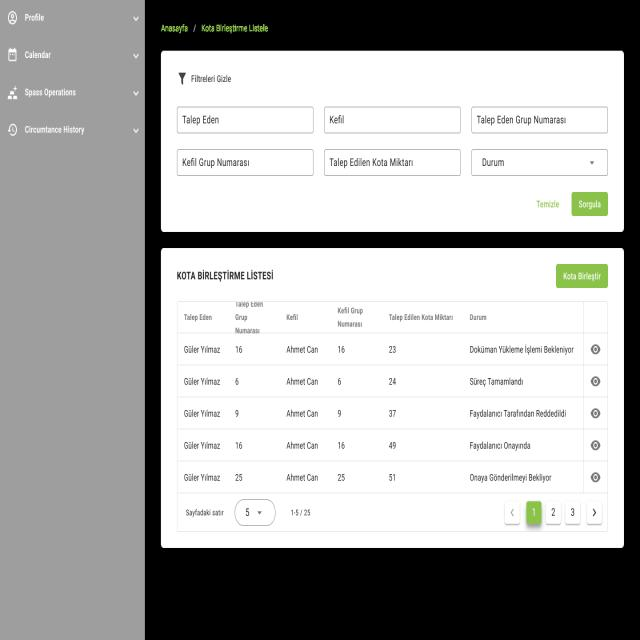QLabel: (174, 266, 275, 282), (190, 70, 232, 87), (560, 269, 604, 283), (576, 199, 604, 211), (537, 197, 560, 211)
QMenu: (0, 0, 145, 640)
VBreadcrumbs: (156, 20, 274, 40)
VBtn: (471, 149, 608, 177), (554, 262, 609, 290), (571, 189, 609, 218), (528, 188, 564, 214)
VCard: (160, 246, 625, 551), (160, 48, 625, 235)
VDataTable: (176, 299, 610, 535)
VIcon: (177, 70, 187, 87)
VTextField: (176, 106, 315, 136), (176, 148, 314, 178), (471, 106, 609, 135), (324, 148, 461, 177), (323, 106, 461, 134)
